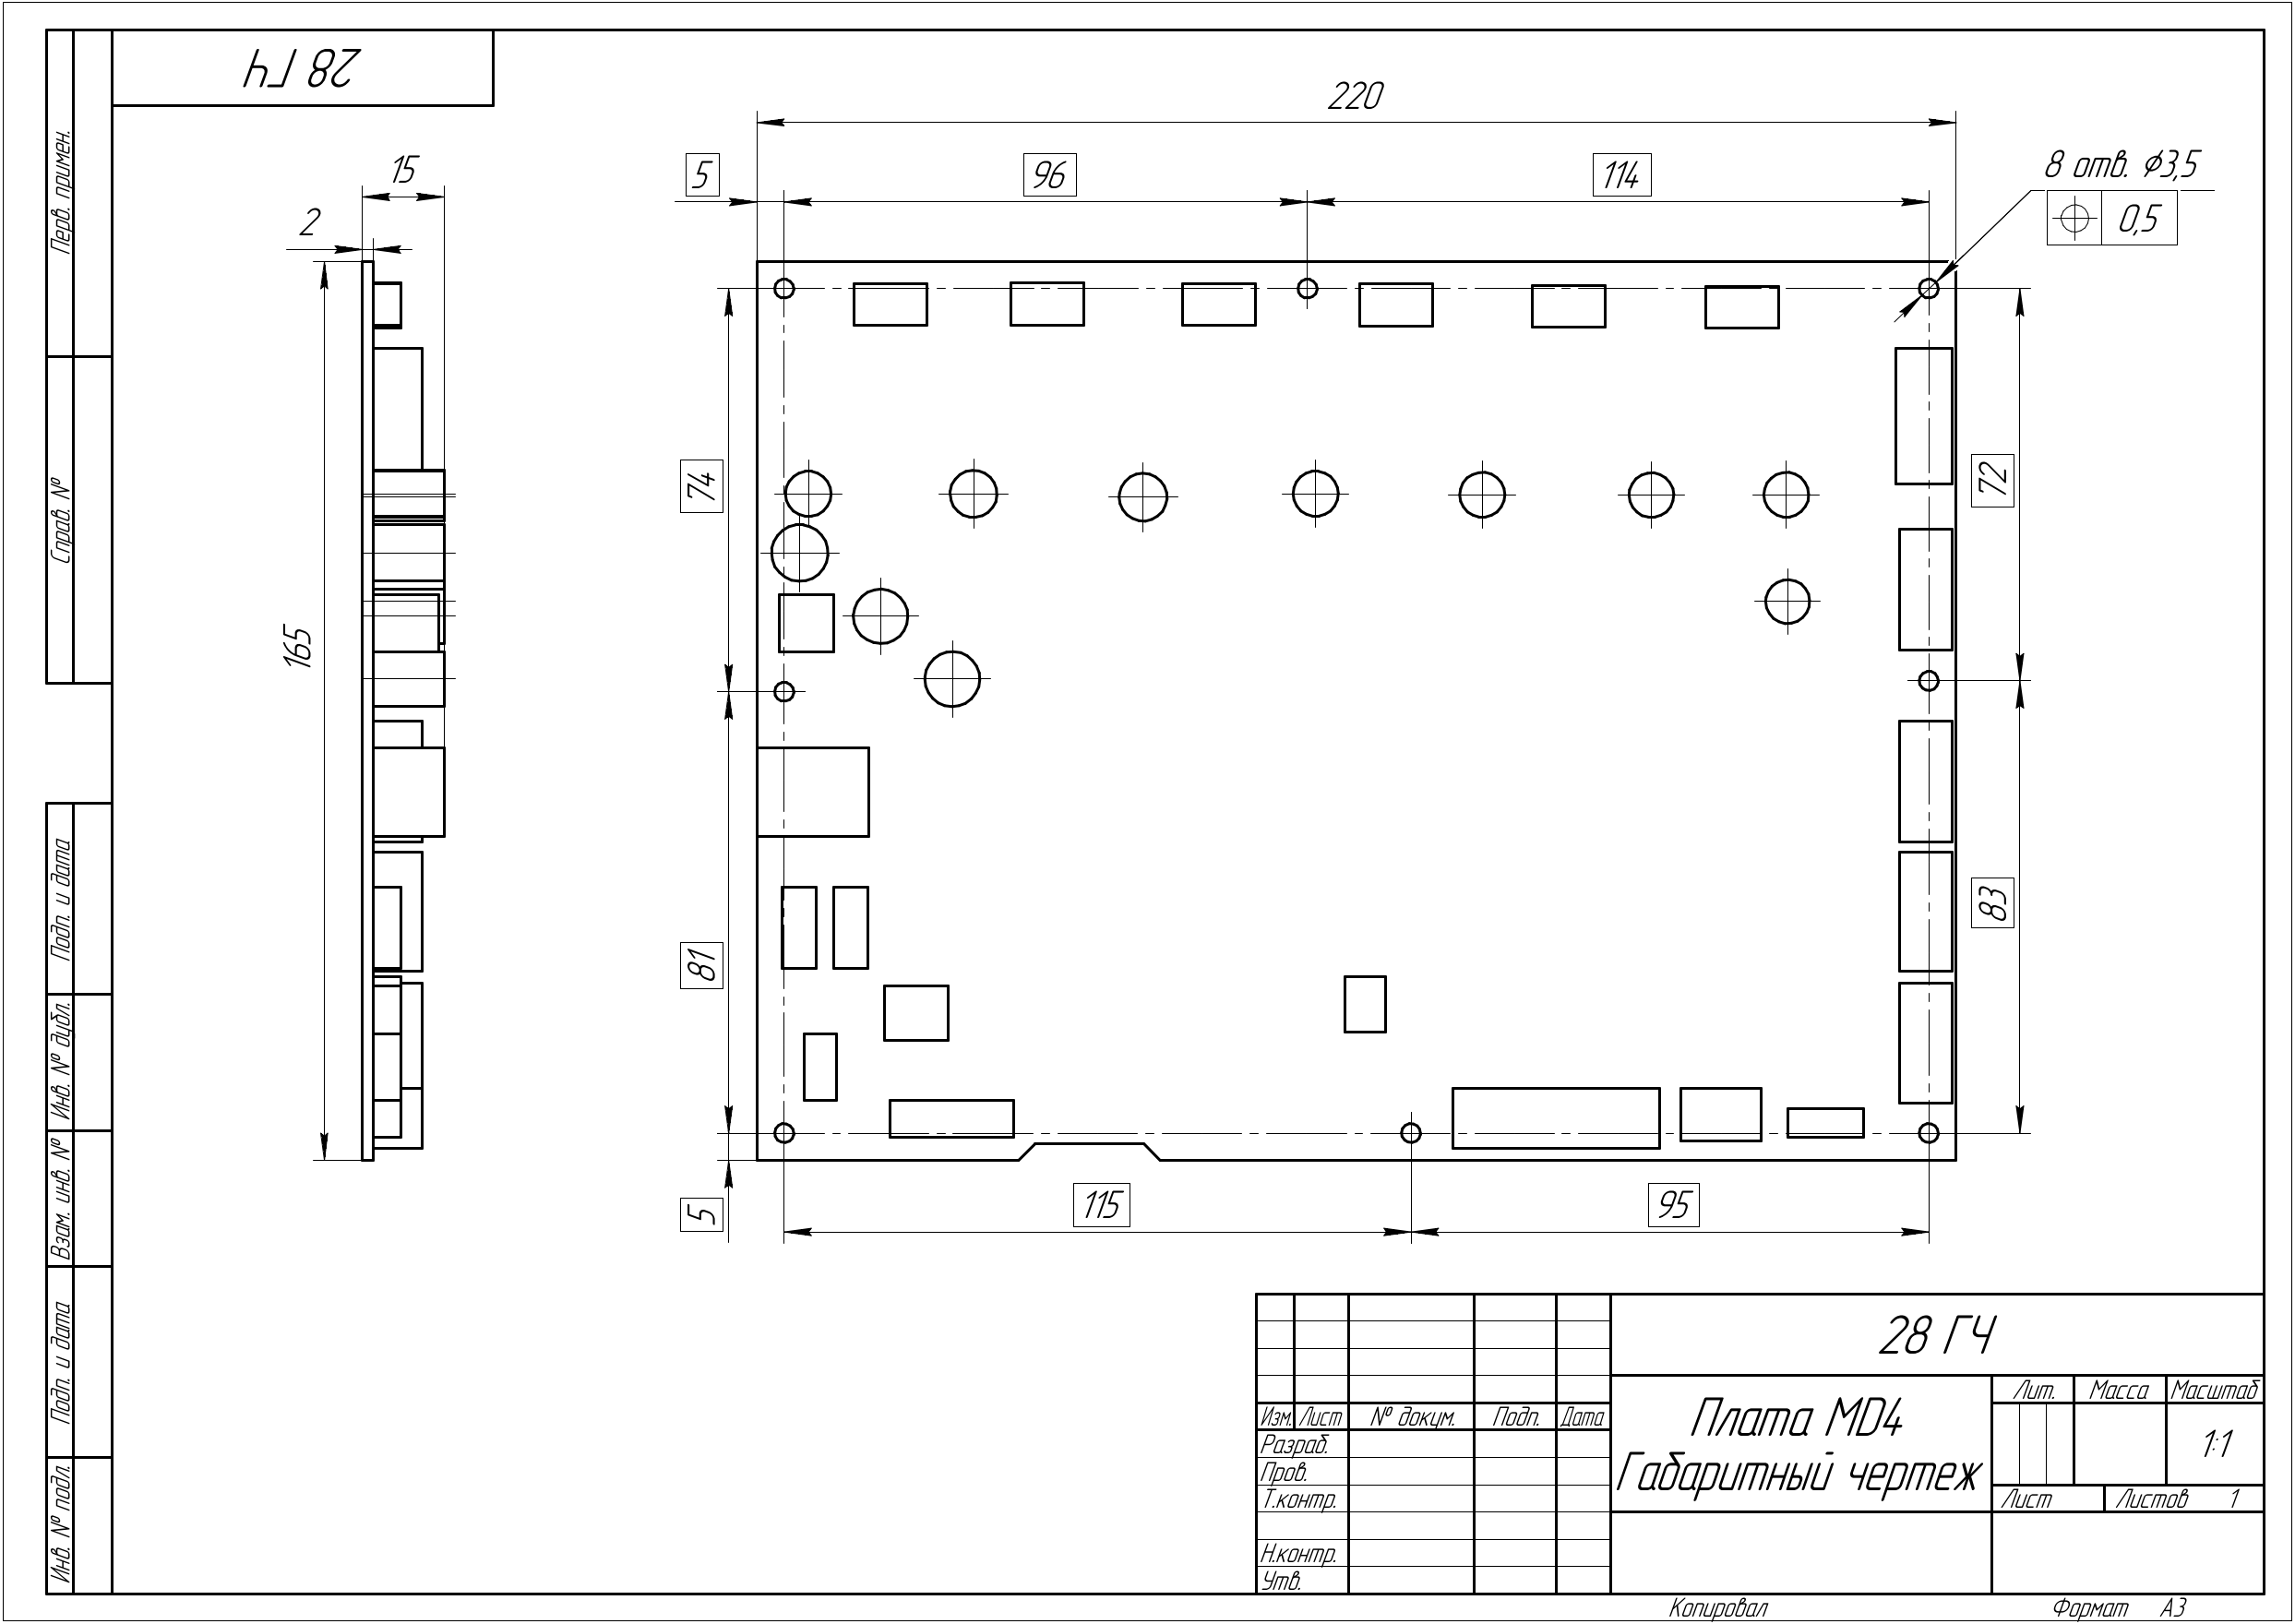Диаметральный размер: (2133, 141, 2214, 192)
Линейный размер: (749, 74, 1963, 127), (278, 257, 332, 1169), (285, 202, 418, 257), (355, 144, 453, 206)
Номинальный размер: (778, 1176, 1418, 1248), (1300, 146, 1935, 209), (1404, 1178, 1935, 1248), (777, 146, 1311, 211), (1966, 670, 2033, 1139), (675, 687, 735, 1193), (1966, 281, 2035, 685), (675, 283, 735, 696), (670, 144, 817, 209), (677, 1100, 735, 1246)
